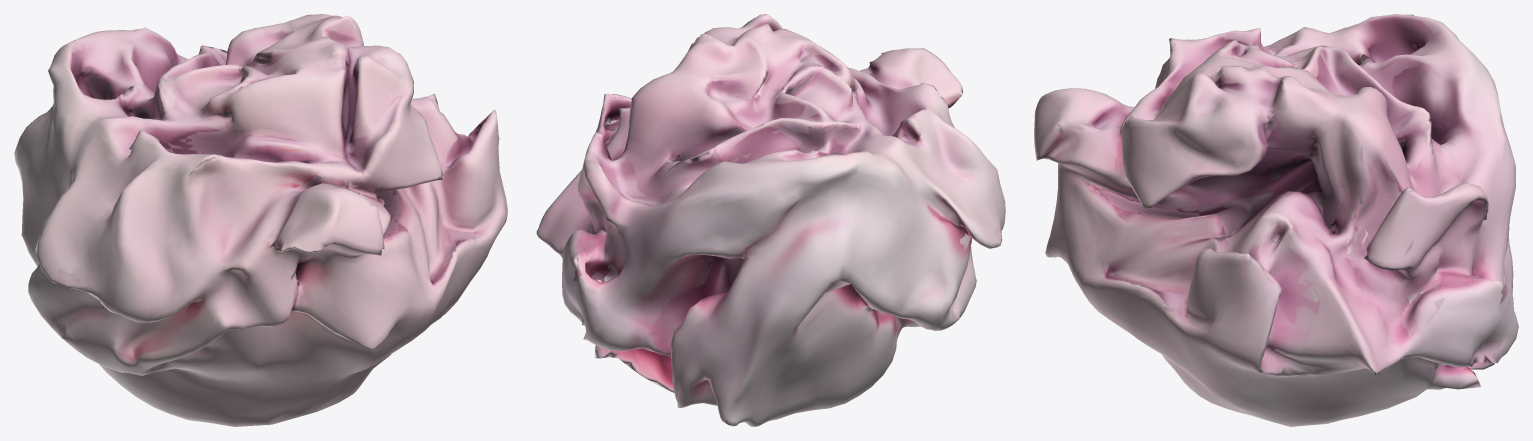
The model's file is Meshy_AI_peçete_0102212754_texture.fbx.
3 renders of one model, left to right at view 1: azimuth 30°, elevation 25°; view 2: azimuth 150°, elevation 25°; view 3: azimuth 270°, elevation 25°, orthographic. The views are drawn at different scales.
Parts seen in each view (by area): view 1: Mesh0; view 2: Mesh0; view 3: Mesh0.
Boxes of the visible parts, x1,y1,x2,y2 form: Mesh0: [14, 14, 507, 426]; Mesh0: [536, 14, 1005, 426]; Mesh0: [1034, 14, 1518, 426].
Size of the model in its own units: 185 by 139 by 172.
Materials: 1 (1 with a texture image).
